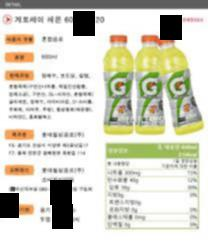gatorade_lemon: (155, 34, 205, 134), (103, 34, 134, 134), (137, 34, 166, 134)
